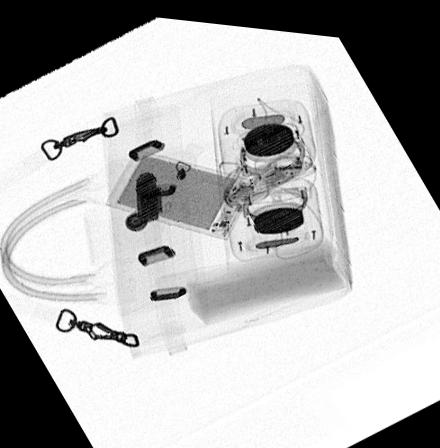Powerbank: (106, 149, 258, 235)
